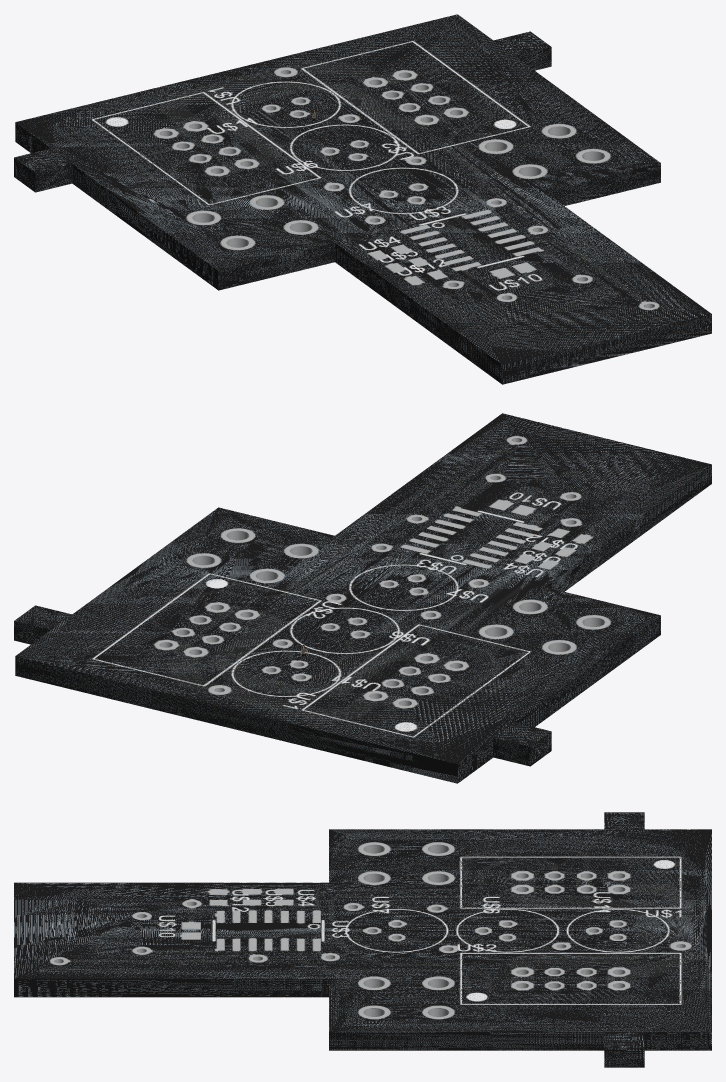
The model's file is LasCon.dae.
3 renders of one model, top to bottom at view 1: azimuth 30°, elevation 25°; view 2: azimuth 150°, elevation 25°; view 3: azimuth 270°, elevation 25°, orthographic. The views are drawn at different scales.
Parts seen in each view (by area): view 1: SketchUp (×2); view 2: SketchUp (×2); view 3: SketchUp (×2).
Boxes of the visible parts, x1,y1,x2,y2 form: SketchUp (×2): (14,14,711,384); SketchUp (×2): (14,413,711,783); SketchUp (×2): (14,812,711,1067).
Bounding box in the file's own units: 1746 × 2171 × 98.14.
13 materials, 2 textured.
